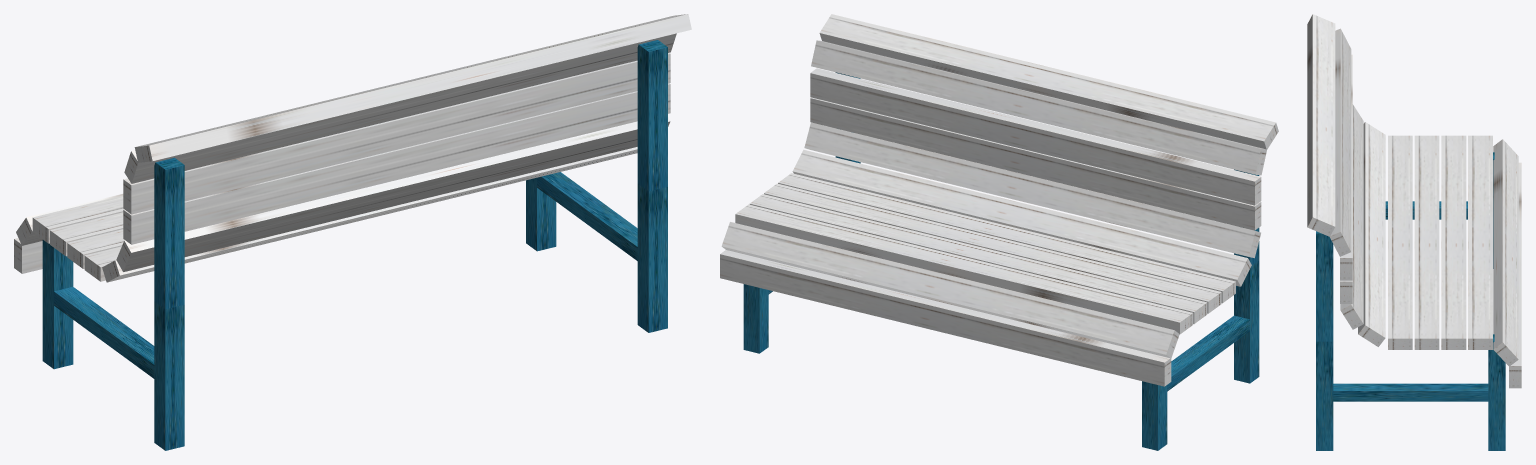
The model's file is bench2.fbx.
3 renders of one model, left to right at view 1: azimuth 30°, elevation 25°; view 2: azimuth 150°, elevation 25°; view 3: azimuth 270°, elevation 25°, orthographic. The views are drawn at different scales.
Parts seen in each view (by area): view 1: Cube.011; view 2: Cube.011; view 3: Cube.011.
Part boxes in pixels (x1=…): Cube.011: x1=14, y1=14, x2=691, y2=450; Cube.011: x1=720, y1=14, x2=1278, y2=450; Cube.011: x1=1307, y1=14, x2=1521, y2=450.
Size of the model in its own units: 558 by 308 by 248.
Materials: 1 (1 with a texture image).
